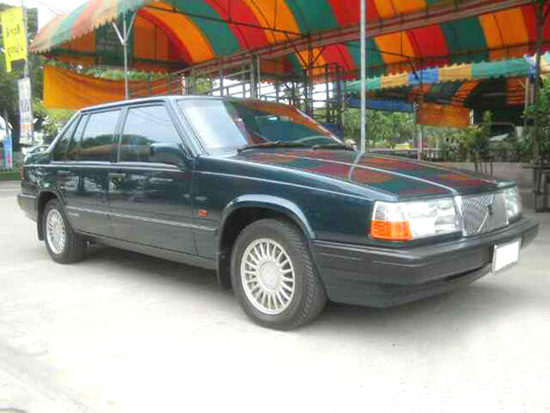sedan: (21, 94, 539, 326)
